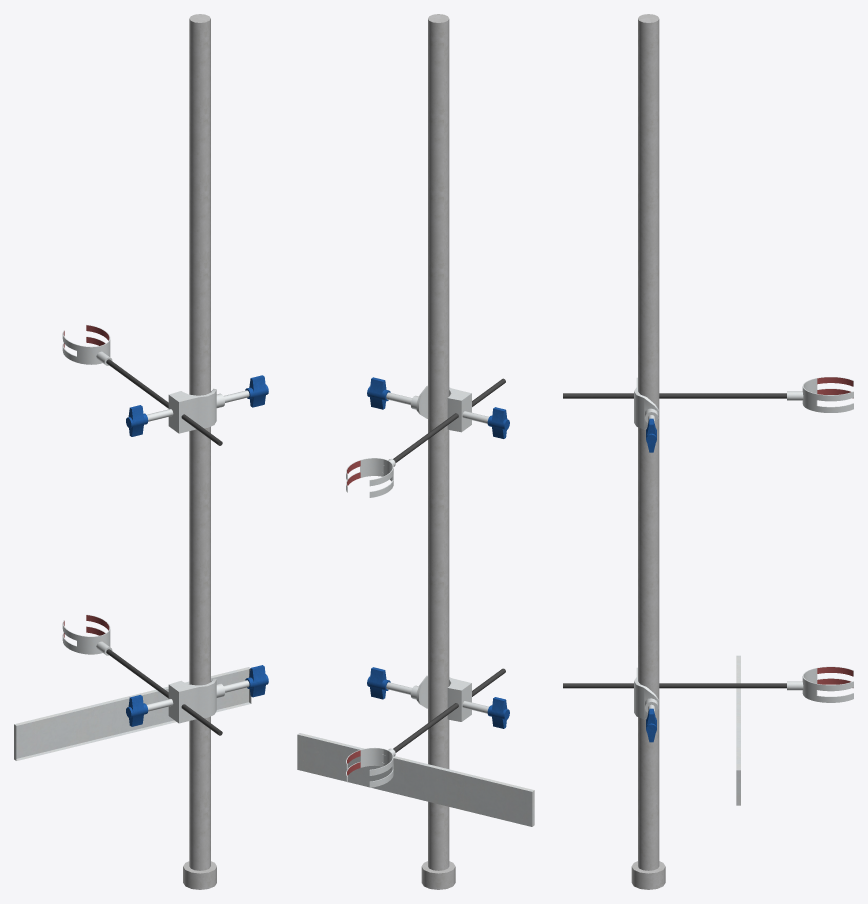
File: SM_铁架台.FBX
3 renders of one model, left to right at view 1: azimuth 30°, elevation 25°; view 2: azimuth 150°, elevation 25°; view 3: azimuth 270°, elevation 25°, orthographic.
Parts seen in each view (by area): view 1: SM_铁架台; view 2: SM_铁架台; view 3: SM_铁架台.
Part boxes in pixels (bbox=[...]): SM_铁架台: bbox=[14, 14, 268, 889]; SM_铁架台: bbox=[297, 14, 534, 889]; SM_铁架台: bbox=[563, 14, 853, 889].
Bounding box in the file's own units: 0.3189 × 1.12 × 0.3419.
